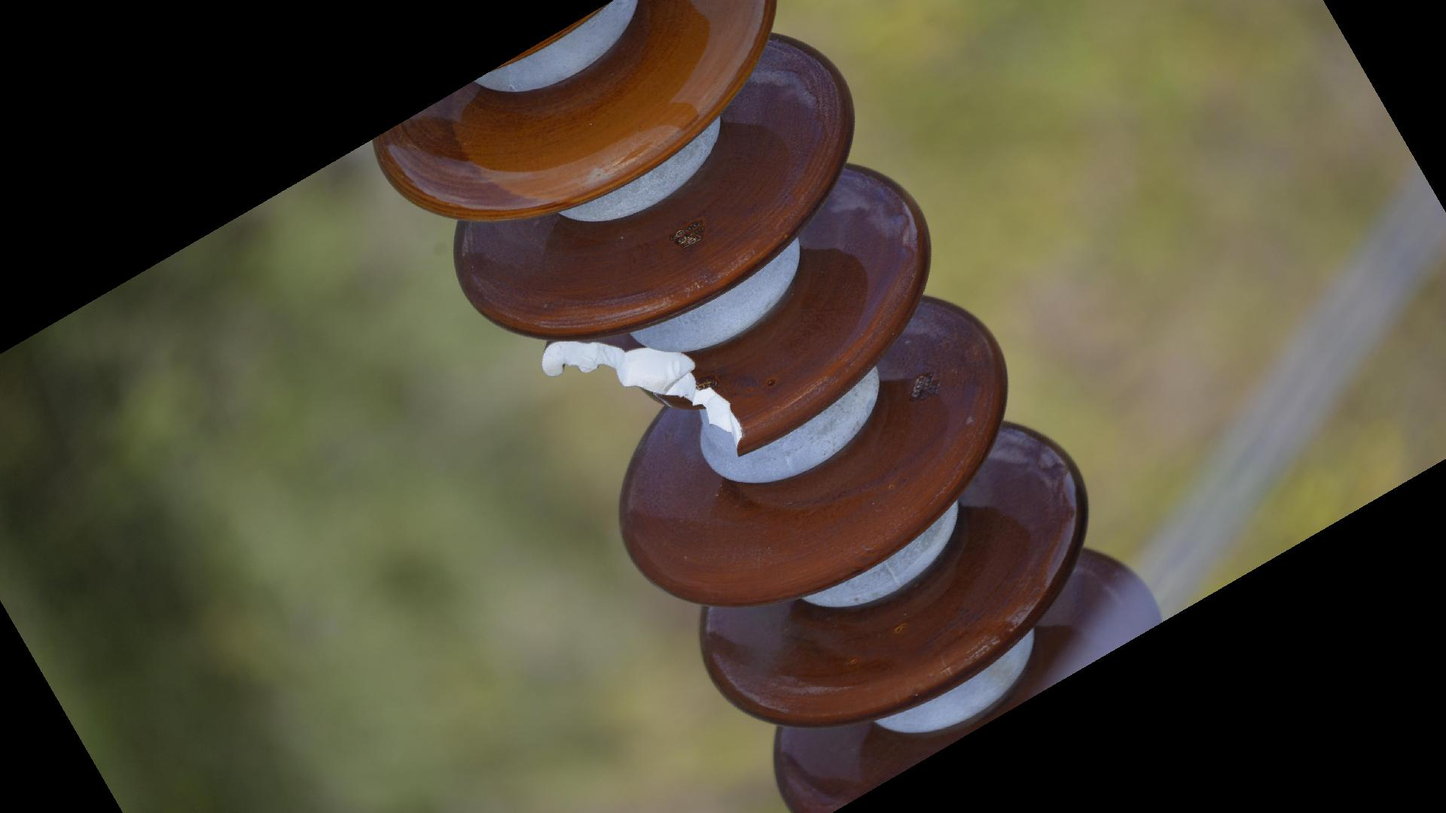insulator: (365, 1, 1173, 813)
insulator_breakage: (537, 333, 762, 466)
